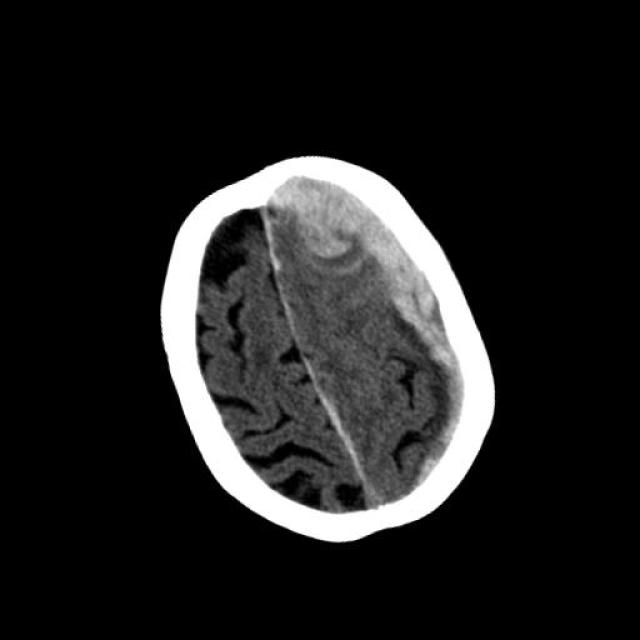Intraparenchymal: (288, 208, 372, 300)
Subdural: (261, 114, 538, 530)
